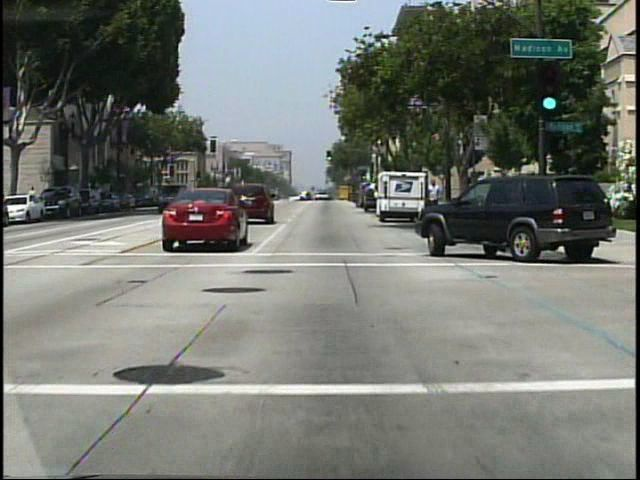person: (425, 179, 442, 220), (351, 184, 365, 211), (29, 184, 41, 211)
